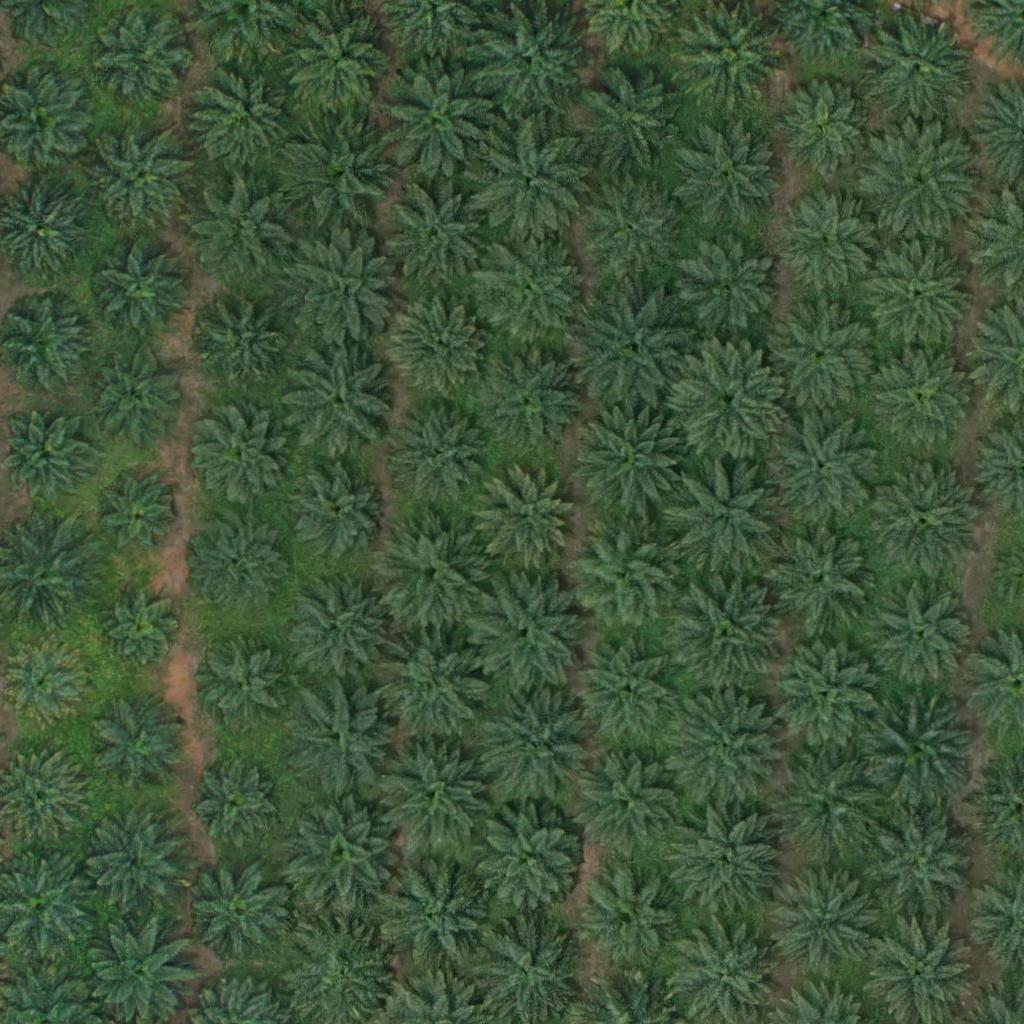Kelapa_Sawit: (577, 61, 690, 175), (566, 517, 679, 631), (671, 575, 784, 689), (671, 693, 784, 807), (770, 749, 883, 863), (771, 864, 884, 978), (861, 11, 974, 124), (866, 125, 979, 238), (673, 344, 786, 457), (670, 456, 783, 569), (574, 174, 687, 287), (579, 293, 692, 406), (572, 405, 685, 518), (474, 5, 587, 118), (476, 127, 589, 240), (281, 229, 394, 342), (281, 345, 394, 458), (279, 457, 392, 570), (280, 570, 393, 683), (286, 683, 399, 796), (286, 797, 399, 910), (376, 738, 489, 851), (378, 864, 491, 977), (667, 806, 780, 919), (867, 239, 979, 353), (670, 120, 782, 234), (772, 639, 884, 753), (864, 804, 976, 918), (869, 465, 981, 578), (768, 302, 880, 415), (772, 412, 884, 525), (477, 233, 589, 346), (475, 346, 587, 459), (382, 64, 494, 177), (379, 175, 491, 288), (282, 8, 394, 121), (285, 123, 397, 236), (87, 123, 199, 236), (372, 516, 484, 629), (375, 632, 487, 745), (474, 576, 586, 689), (480, 688, 592, 801), (474, 800, 586, 913), (573, 743, 685, 856), (766, 521, 878, 634), (864, 697, 976, 810), (478, 465, 578, 566), (386, 297, 486, 398), (391, 403, 491, 504), (189, 67, 289, 168), (186, 180, 286, 281), (188, 293, 288, 394), (96, 6, 196, 107), (89, 240, 189, 341), (91, 689, 191, 790), (86, 814, 186, 915), (192, 639, 292, 740), (185, 862, 285, 963), (582, 866, 682, 967), (874, 586, 974, 687), (872, 349, 972, 449), (773, 81, 873, 181), (778, 195, 878, 295), (681, 239, 781, 339), (189, 409, 289, 509), (189, 513, 289, 613), (87, 345, 187, 445), (577, 644, 677, 744), (99, 582, 187, 670), (189, 758, 277, 846), (99, 477, 174, 553)
